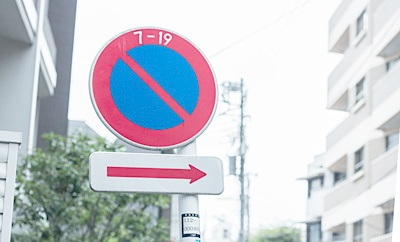Prohibition_sign: (80, 20, 220, 152)
